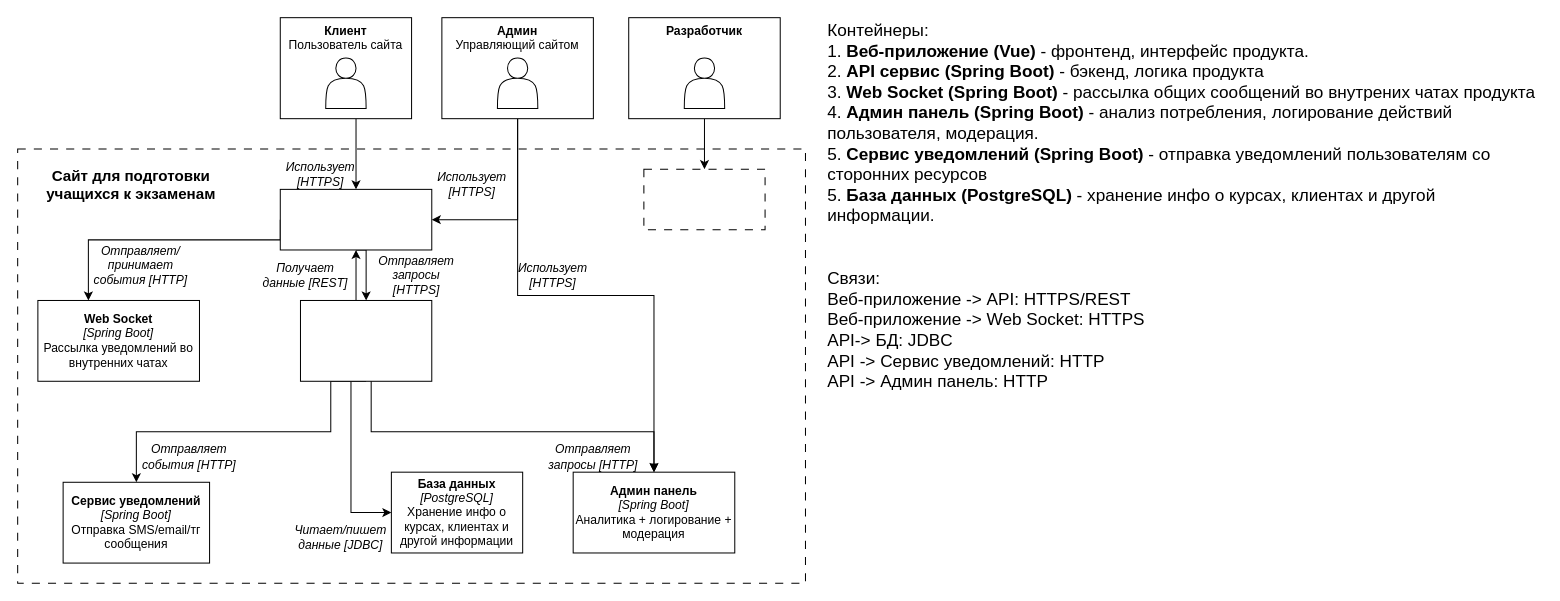
Image size: 1560x601. Some labels were removed from this diagram. The shapes that lost their labels are listed below. From the top down, each one's centre as x and y in pixels, then its label:
At pixel 355 219: "Веб-приложение [Vue] Интерфейс для клиента".
At pixel 704 199: "Имеет полный доступ к кажлому контейнеру".
At pixel 365 340: "API сервис [Spring Boot] Бэкенд продукта".
